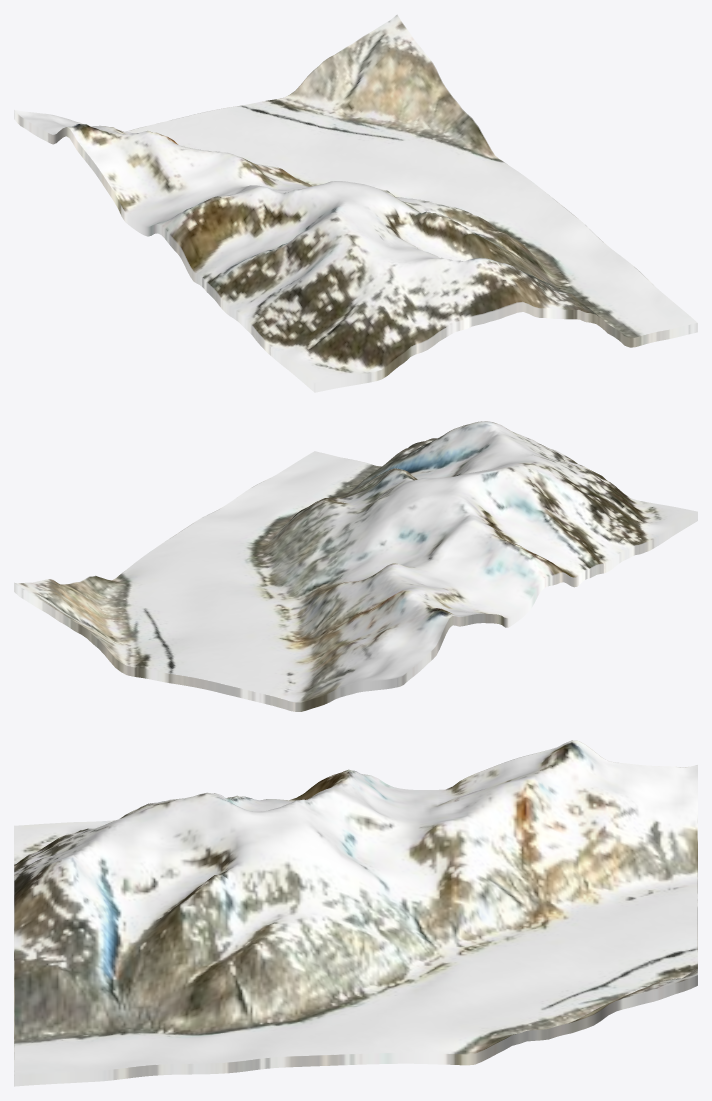
3 renders of one model, top to bottom at view 1: azimuth 30°, elevation 25°; view 2: azimuth 150°, elevation 25°; view 3: azimuth 270°, elevation 25°, orthographic. The views are drawn at different scales.
Visible parts, largest first — view 1: tile; view 2: tile; view 3: tile.
Boxes of the visible parts, <box> form: tile: <box>14,14,697,392</box>; tile: <box>14,421,697,711</box>; tile: <box>14,740,697,1086</box>.
Bounding box in the file's own units: 4050 × 1228 × 5505.
1 material, 1 textured.
